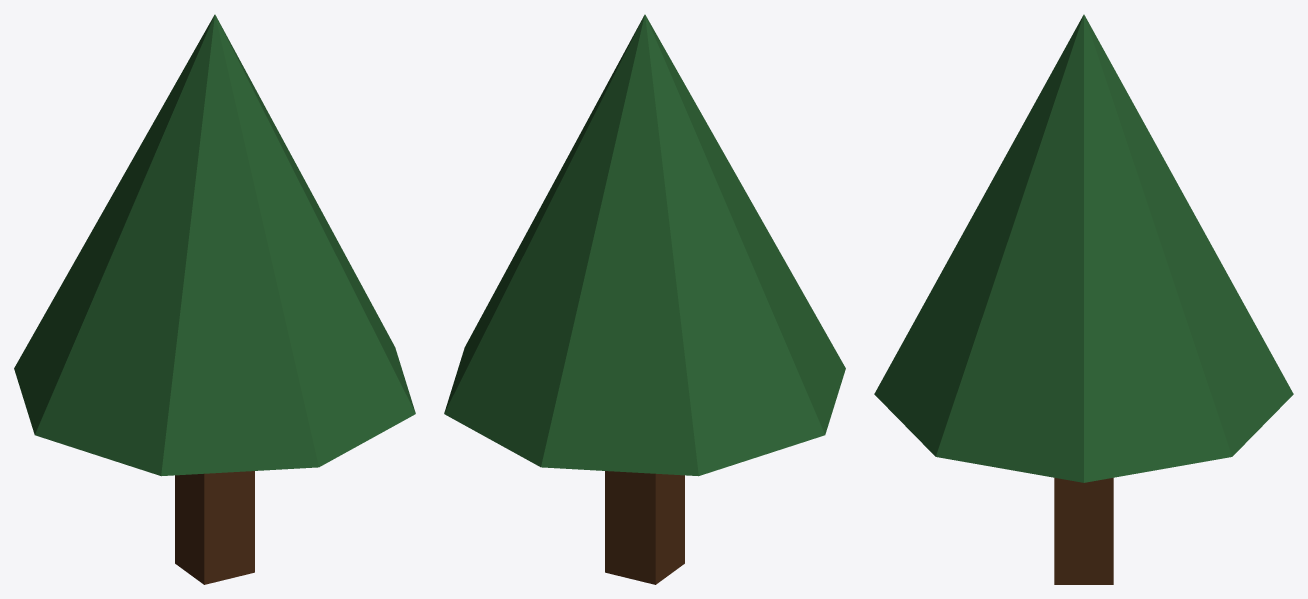
Rendered from tree.obj.
3 renders of one model, left to right at view 1: azimuth 30°, elevation 25°; view 2: azimuth 150°, elevation 25°; view 3: azimuth 270°, elevation 25°, orthographic.
Visible parts, largest first — view 1: Top, Trunk; view 2: Top, Trunk; view 3: Top, Trunk.
Part boxes in pixels (left/top/right/bottom): Top: left=14, top=14, right=415, bottom=476; Trunk: left=175, top=471, right=254, bottom=584; Top: left=444, top=14, right=845, bottom=476; Trunk: left=605, top=471, right=684, bottom=584; Top: left=874, top=14, right=1293, bottom=482; Trunk: left=1054, top=477, right=1113, bottom=584.
Size of the model in its own units: 0.32 by 0.47 by 0.32.
